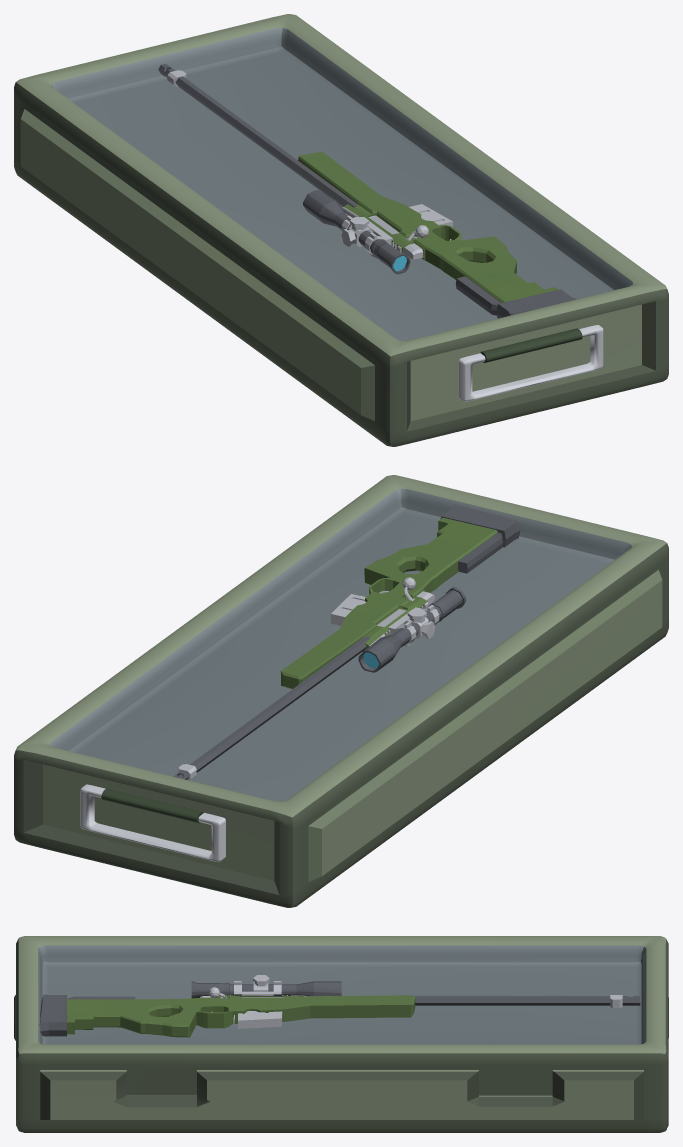
The model's file is WeaponCase.fbx.
3 renders of one model, top to bottom at view 1: azimuth 30°, elevation 25°; view 2: azimuth 150°, elevation 25°; view 3: azimuth 270°, elevation 25°, orthographic. The views are drawn at different scales.
Parts seen in each view (by area): view 1: polySurface4; view 2: polySurface4; view 3: polySurface4.
Boxes of the visible parts, <box> form: polySurface4: <box>14,14,668,446</box>; polySurface4: <box>14,475,668,907</box>; polySurface4: <box>14,936,668,1132</box>.
Bounding box in the file's own units: 10.46 × 3.45 × 22.44.
Materials: 1 (1 with a texture image).
